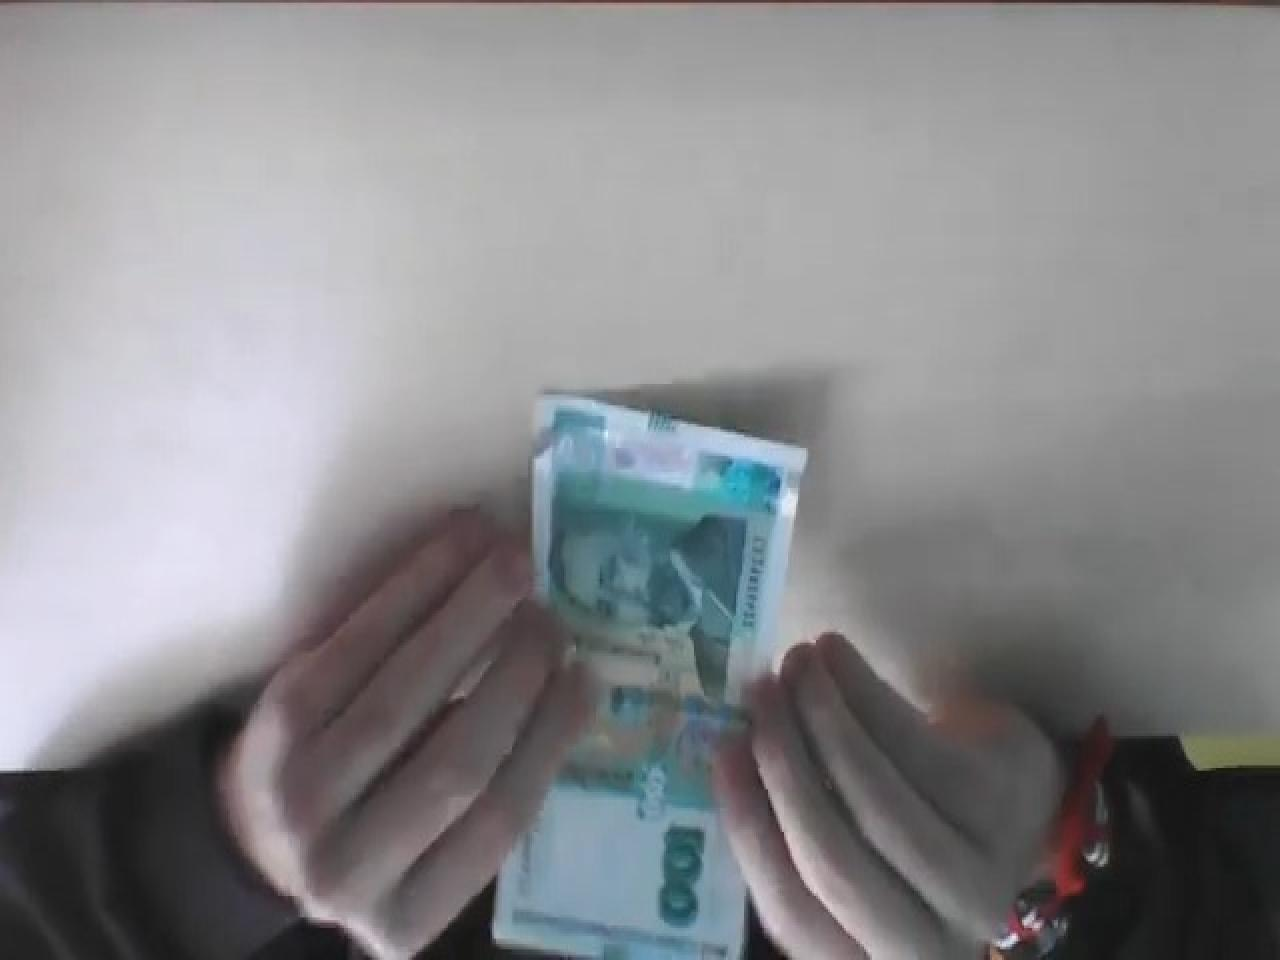100leva: (484, 389, 810, 960)
